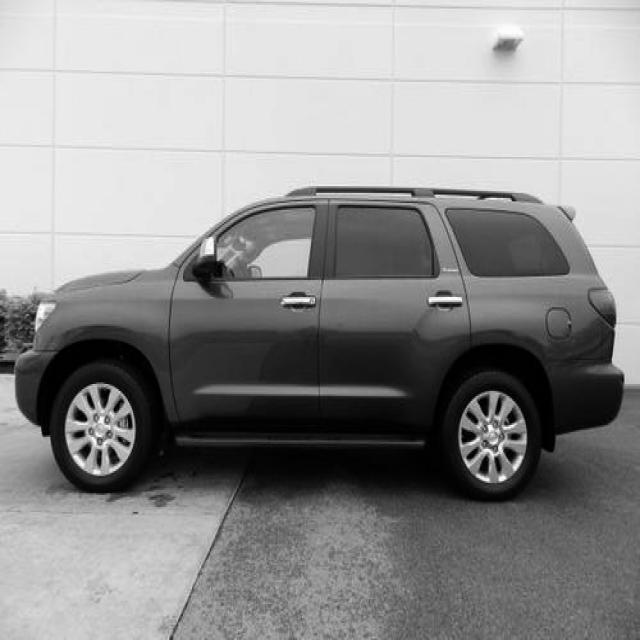car: (12, 183, 624, 502)
